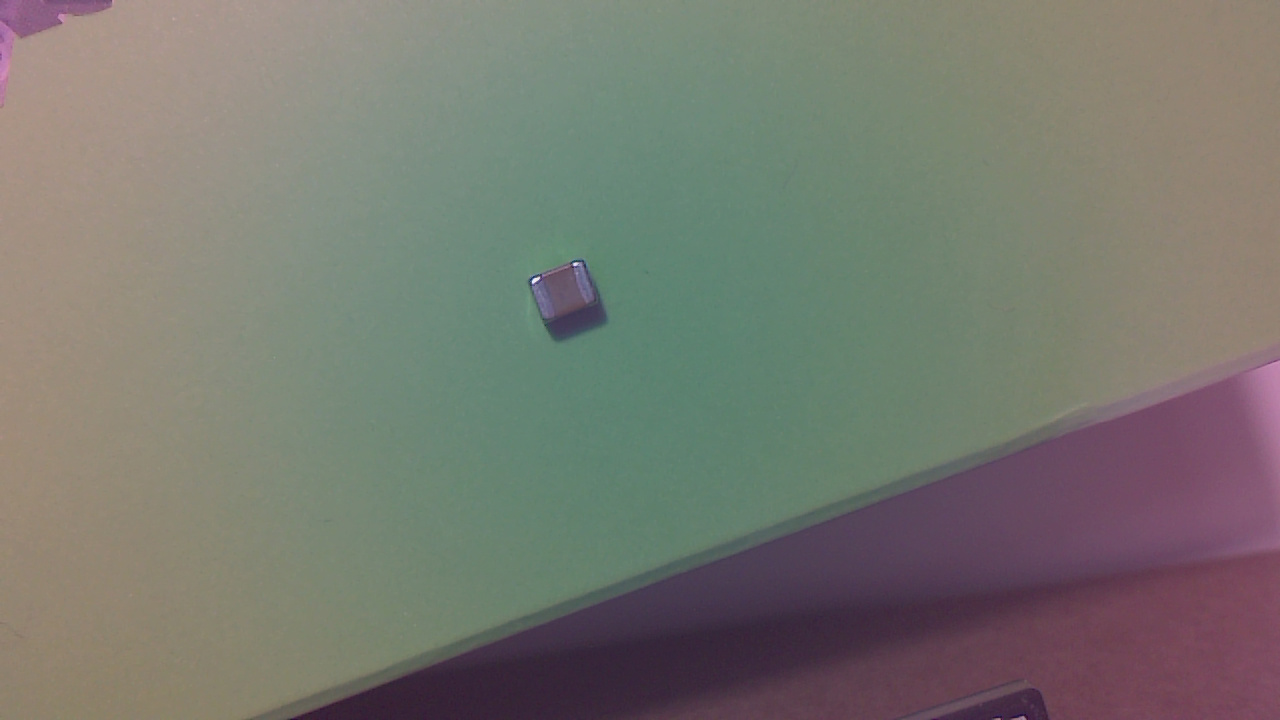Condensator: (529, 264, 606, 332)
